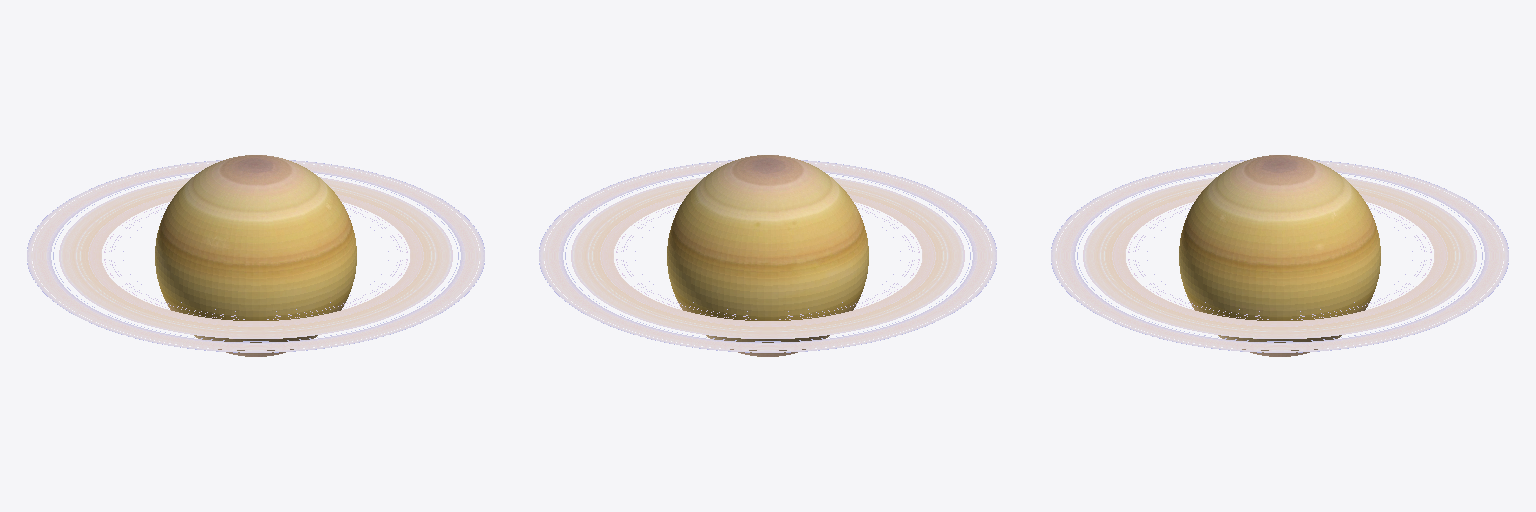
3 views of the same model, side by side, from view 1: azimuth 30°, elevation 25°; view 2: azimuth 150°, elevation 25°; view 3: azimuth 270°, elevation 25° (orthographic).
Size of the model in its own units: 280769 by 120536 by 280769.
2 materials, 2 textured.